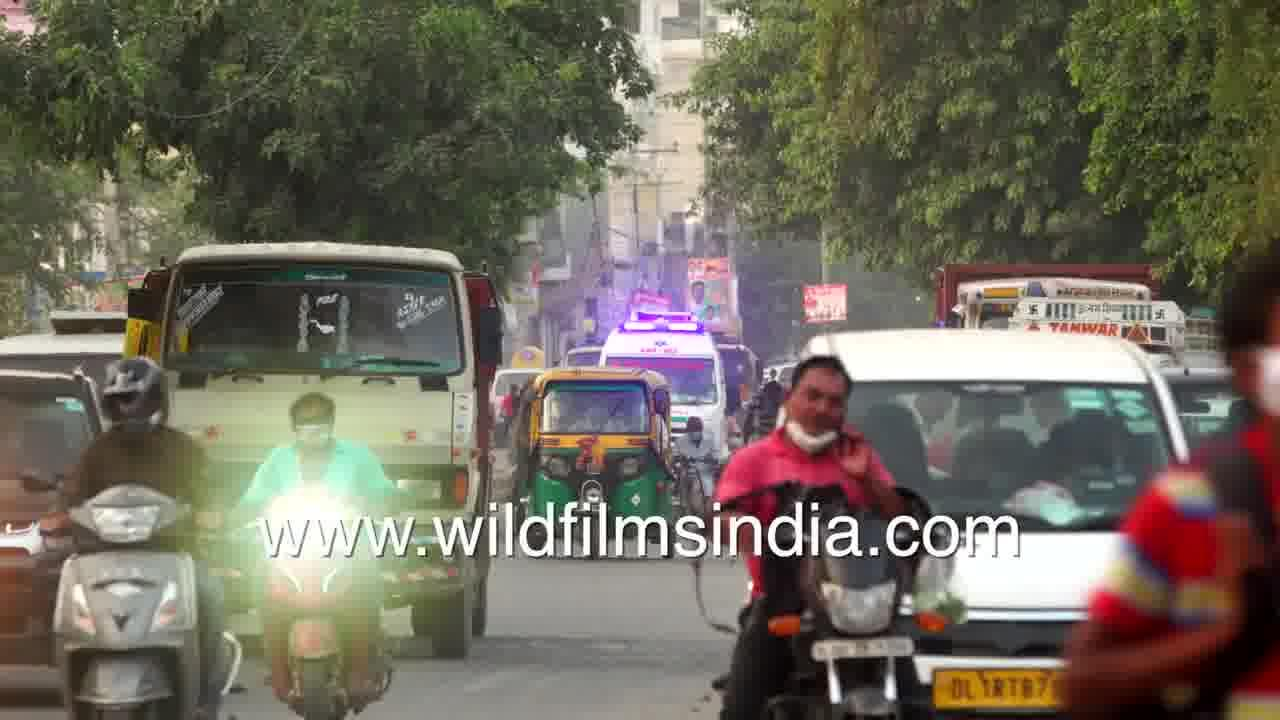AMBULANCE: (586, 291, 757, 373)
